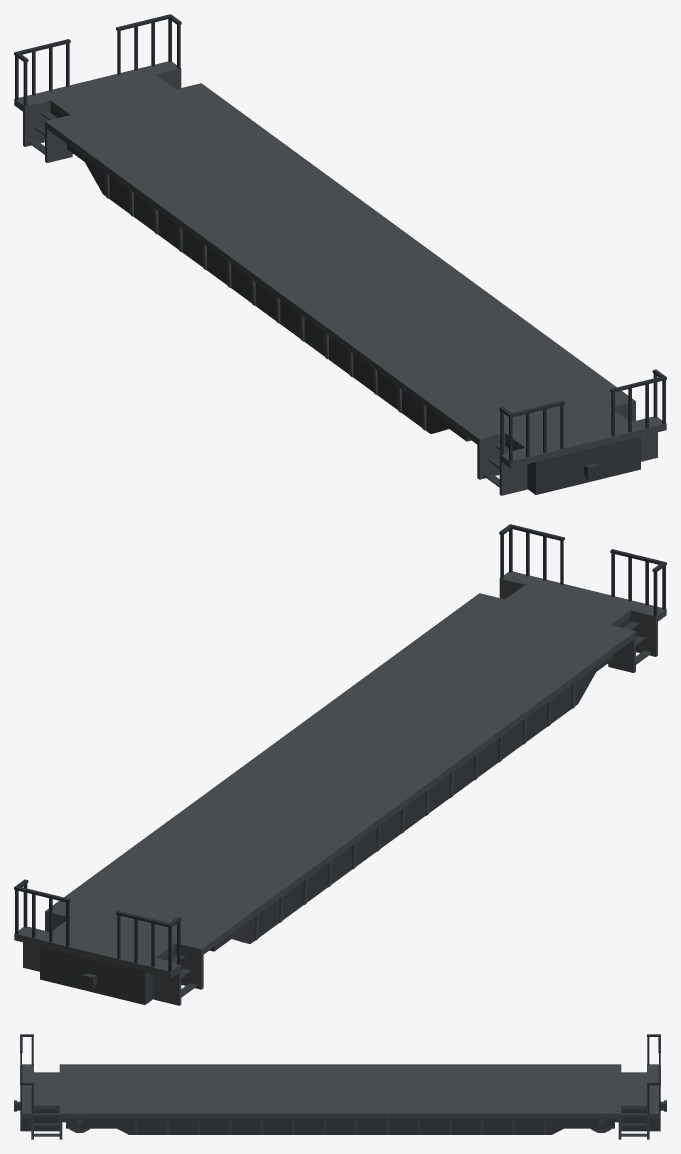
The model's file is SM_Trains_Train_03_C2.glb.
The picture shows the model from 3 angles, top to bottom: view 1: azimuth 30°, elevation 25°; view 2: azimuth 150°, elevation 25°; view 3: azimuth 270°, elevation 25°; orthographic projection. The views are drawn at different scales.
Parts seen in each view (by area): view 1: SM_Trains_Train_03_C2; view 2: SM_Trains_Train_03_C2; view 3: SM_Trains_Train_03_C2.
Part boxes in pixels (x1,y1,x2,y2): SM_Trains_Train_03_C2: (14, 14, 666, 495); SM_Trains_Train_03_C2: (14, 524, 666, 1005); SM_Trains_Train_03_C2: (14, 1034, 666, 1139).
Bounding box in the file's own units: 3.51 × 2.02 × 19.58.
Materials: 1 (1 with a texture image).
